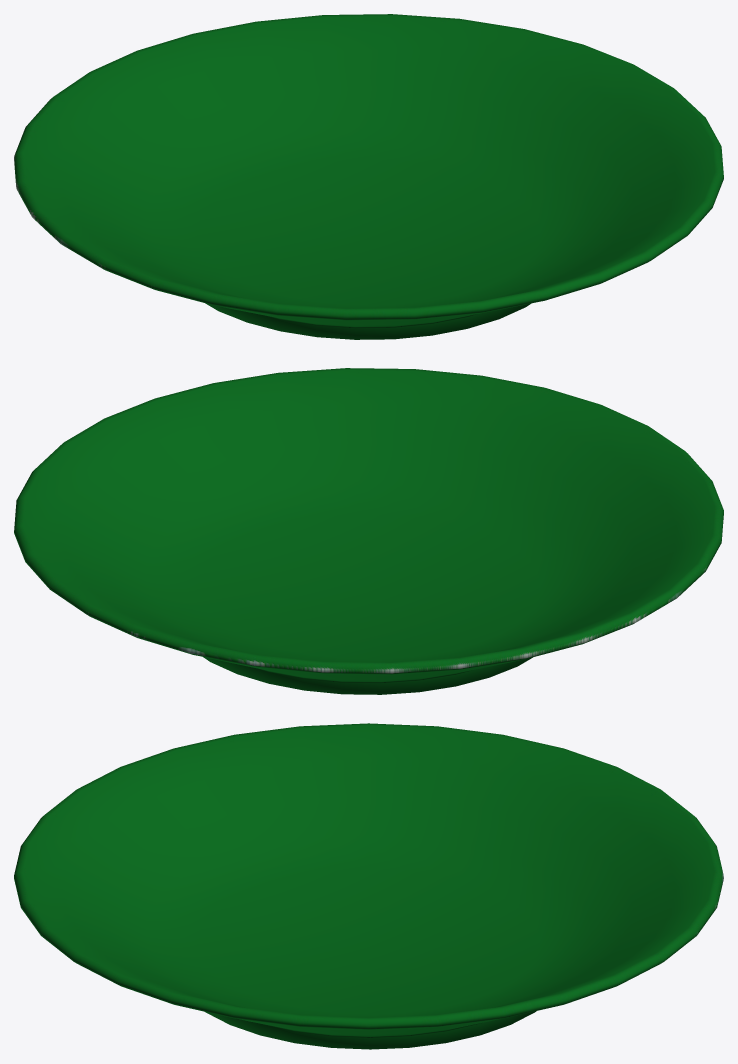
File: piatto_verde.glb
3 views of the same model, one above another, from view 1: azimuth 30°, elevation 25°; view 2: azimuth 150°, elevation 25°; view 3: azimuth 270°, elevation 25° (orthographic).
Visible parts, largest first — view 1: Mesh_0; view 2: Mesh_0; view 3: Mesh_0.
Part boxes in pixels (x1=…): Mesh_0: x1=14, y1=14, x2=723, y2=339; Mesh_0: x1=14, y1=368, x2=723, y2=694; Mesh_0: x1=14, y1=723, x2=723, y2=1049.
Bounding box in the file's own units: 0.3705 × 0.0543 × 0.3705.
1 material, 1 textured.
